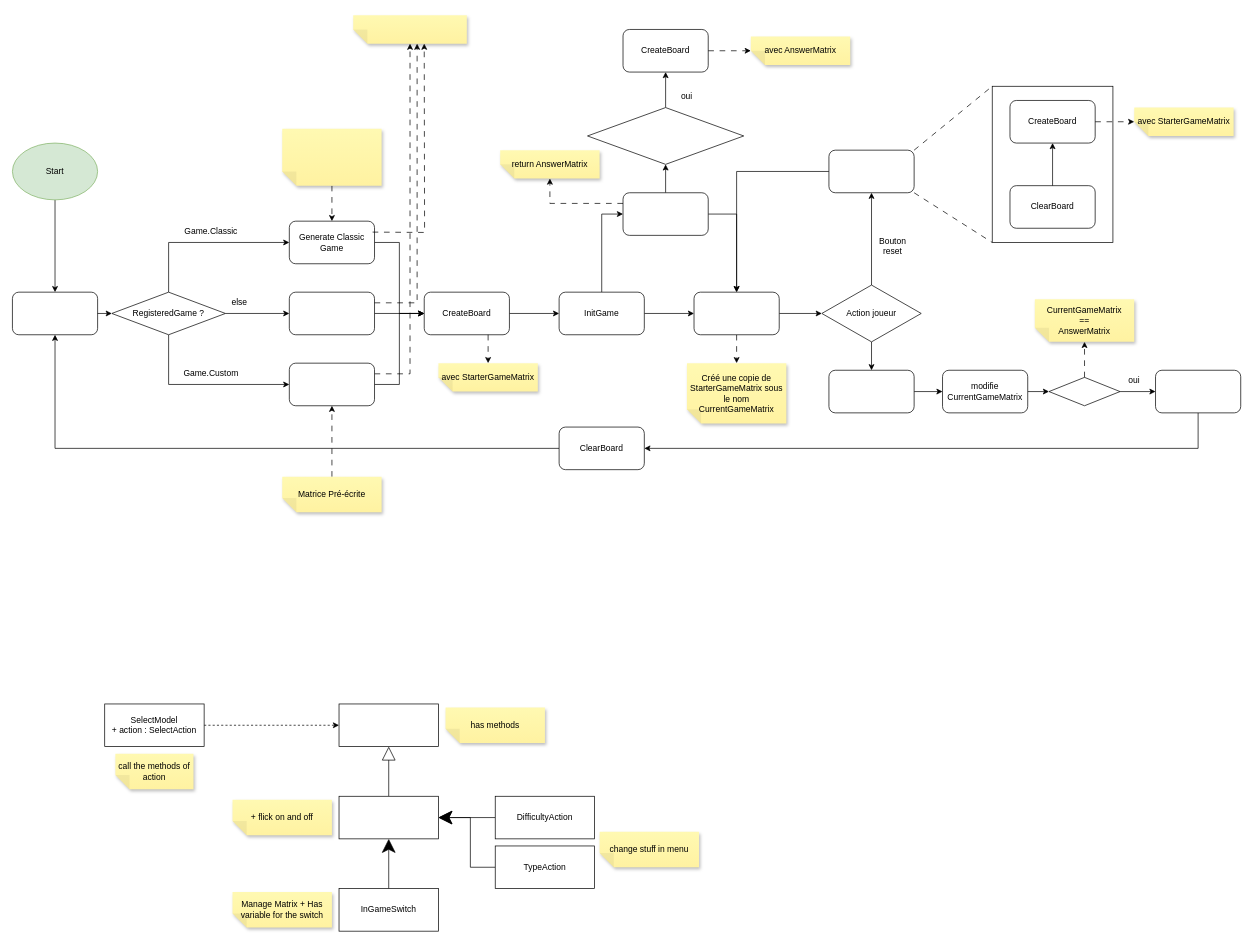
Some shapes in this 1253 by 944 pixel diagram are drawn without their labels. Each missing label, with the centre of its shape:
"ChooseGame" belongs at (55,313).
"Clique sur un interrupteur" belongs at (871,391).
"CreateAnswer" belongs at (665,213).
"Custom" belongs at (332,384).
"Customization Stats / Ecriture Aléatoire" belongs at (332,158).
"EndGame" belongs at (1198,391).
"Generate Tutorial Game" belongs at (332,313).
"Jeu résolu ?" belongs at (1084,391).
"ResetGame" belongs at (871,171).
"return StarterGameMatrix" belongs at (410,30).
"SelectAction" belongs at (388,725).
"StartGame" belongs at (736,313).
"SwitchAction" belongs at (388,817).
"Visualisation de la réponse ?" belongs at (665,135).
